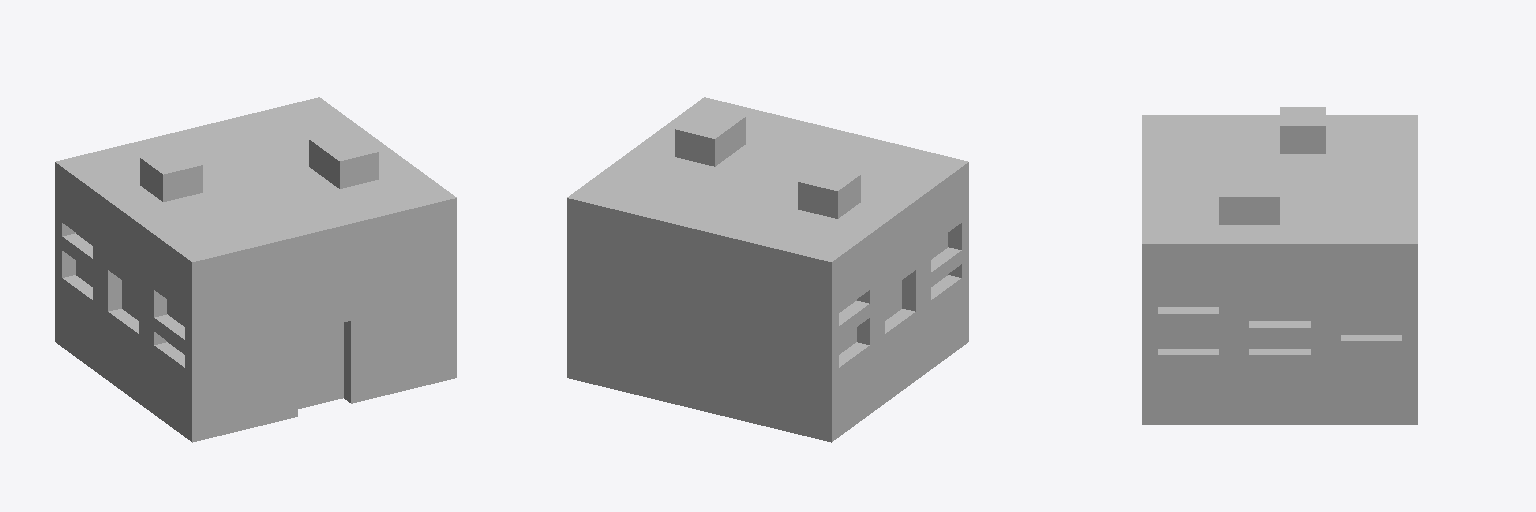
File: ház.vox2.obj
3 views of the same model, side by side, from view 1: azimuth 30°, elevation 25°; view 2: azimuth 150°, elevation 25°; view 3: azimuth 270°, elevation 25° (orthographic).
Bounding box in the file's own units: 20 × 15 × 18.